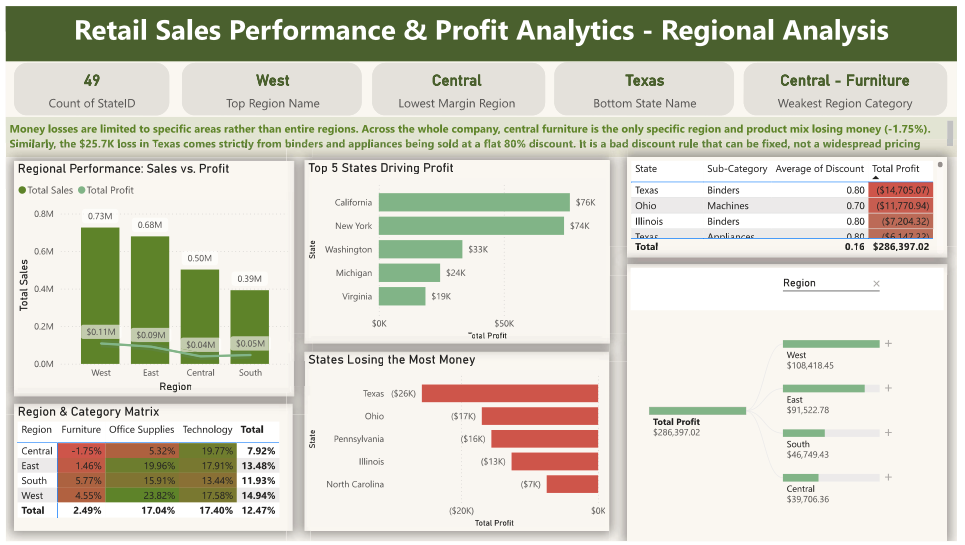

Layout of this report page (visuals, bound fields, positions):
{"tool":"powerbi","page":{"name":"Region","canvas":[1280,720],"ordinal":2},"visuals":[{"type":"shape","box":[738.2,75.2,242.2,71.4],"z":0},{"type":"shape","box":[492.9,75.7,232.9,71.4],"z":1000},{"type":"textbox","box":[0,0,1279.7,73.7],"z":2000},{"type":"shape","box":[11.4,75.7,208.6,71.4],"z":3000},{"type":"card","fields":{"Values":["CountNonNull(Dim-State.StateID)"]},"box":[32.9,75.7,165.7,68.6],"z":4000},{"type":"card","fields":{"Values":["Fact-Superstore.Lowest Margin Region"]},"box":[521.4,74.3,171.4,71.4],"z":5000},{"type":"shape","box":[237.1,75.7,241.4,71.4],"z":6000},{"type":"card","fields":{"Values":["Fact-Superstore.Top Region Name"]},"box":[265.7,74.3,187.1,71.4],"z":7000},{"type":"shape","box":[992.9,75.7,274.3,71.4],"z":8000},{"type":"textbox","box":[0,149.2,1280,53.5],"z":9000},{"type":"card","fields":{"Values":["Fact-Superstore.Bottom State Name"]},"box":[774.3,74.3,171.4,71.4],"z":10000},{"type":"card","fields":{"Values":["Fact-Superstore.Weakest Region Category"]},"box":[1005.7,74.3,247.1,71.4],"z":11000},{"type":"lineClusteredColumnComboChart","title":"Regional Performance: Sales vs. Profit","fields":{"Category":["Dim-Region.Region"],"Y":["Fact-Superstore.Total Sales"],"Y2":["Fact-Superstore.Total Profit"]},"box":[11.5,207.8,376.1,317.5],"z":12000},{"type":"pivotTable","title":"Region & Category Matrix","fields":{"Rows":["Dim-Region.Region"],"Values":["Fact-Superstore.Profit Margin %"],"Columns":["Dim-Category.Category"]},"box":[11.5,535.5,374.8,170.8],"z":13000},{"type":"clusteredBarChart","title":"Top 5 States Driving Profit","fields":{"Y":["Fact-Superstore.Total Profit"],"Category":["Dim-State.State"]},"box":[401.6,206.5,411.8,247.3],"z":14000},{"type":"clusteredBarChart","title":"States Losing the Most Money","fields":{"Y":["Fact-Superstore.Total Profit"],"Category":["Dim-State.State"]},"box":[401.6,465.3,410.5,241],"z":15000},{"type":"tableEx","fields":{"Values":["Dim-State.State","Dim-SubCategory.Sub-Category","Avg(Fact-Superstore.Discount)","Fact-Superstore.Total Profit"]},"box":[836.3,202.7,430.9,135.1],"z":16000},{"type":"decompositionTreeVisual","fields":{"Analyze":["Fact-Superstore.Total Profit"],"ExplainBy":["Dim-Region.Region","Dim-Discount.DiscountCategory","Dim-SubCategory.Sub-Category","Dim-Category.Category"]},"box":[836.3,346.8,430.9,373.5],"z":17000}]}

Visuals, with their boxes in screenshot pixels (x1, y1, x2, y2), scaled from the page's 1280x720 canvas onto the 965x545 screenshot:
shape: region(557, 57, 739, 111)
shape: region(372, 57, 547, 111)
textbox: region(0, 0, 964, 56)
shape: region(9, 57, 166, 111)
card - CountNonNull(Dim-State.StateID): region(25, 57, 150, 109)
card - Fact-Superstore.Lowest Margin Region: region(393, 56, 522, 110)
shape: region(179, 57, 361, 111)
card - Fact-Superstore.Top Region Name: region(200, 56, 341, 110)
shape: region(749, 57, 955, 111)
textbox: region(0, 113, 964, 153)
card - Fact-Superstore.Bottom State Name: region(584, 56, 713, 110)
card - Fact-Superstore.Weakest Region Category: region(758, 56, 944, 110)
"Regional Performance: Sales vs. Profit" lineClusteredColumnComboChart: region(9, 157, 292, 398)
"Region & Category Matrix" pivotTable: region(9, 405, 291, 535)
"Top 5 States Driving Profit" clusteredBarChart: region(303, 156, 613, 344)
"States Losing the Most Money" clusteredBarChart: region(303, 352, 612, 535)
tableEx - Dim-State.State x Dim-SubCategory.Sub-Category: region(630, 153, 955, 256)
decompositionTreeVisual - Fact-Superstore.Total Profit x Dim-Region.Region: region(630, 263, 955, 544)
